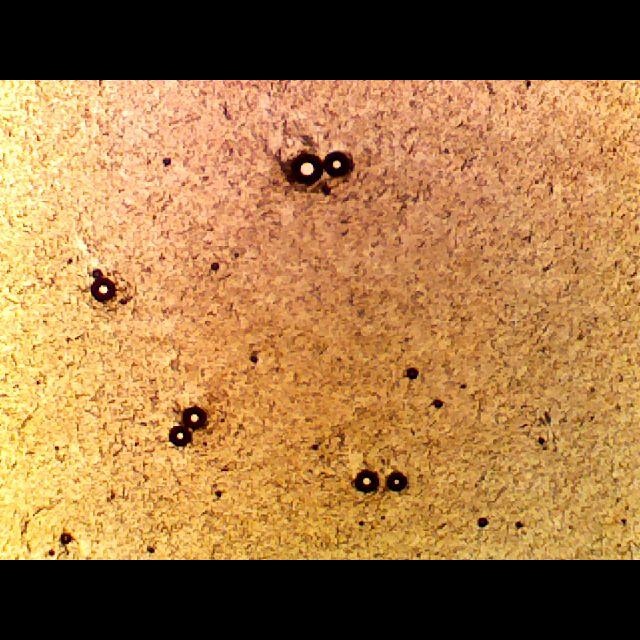microbeads: (282, 150, 324, 190), (321, 141, 357, 183), (349, 469, 378, 493), (182, 403, 208, 429), (90, 276, 114, 304), (164, 426, 192, 448), (386, 471, 406, 491), (404, 364, 418, 378), (161, 154, 171, 168), (206, 262, 218, 272)
